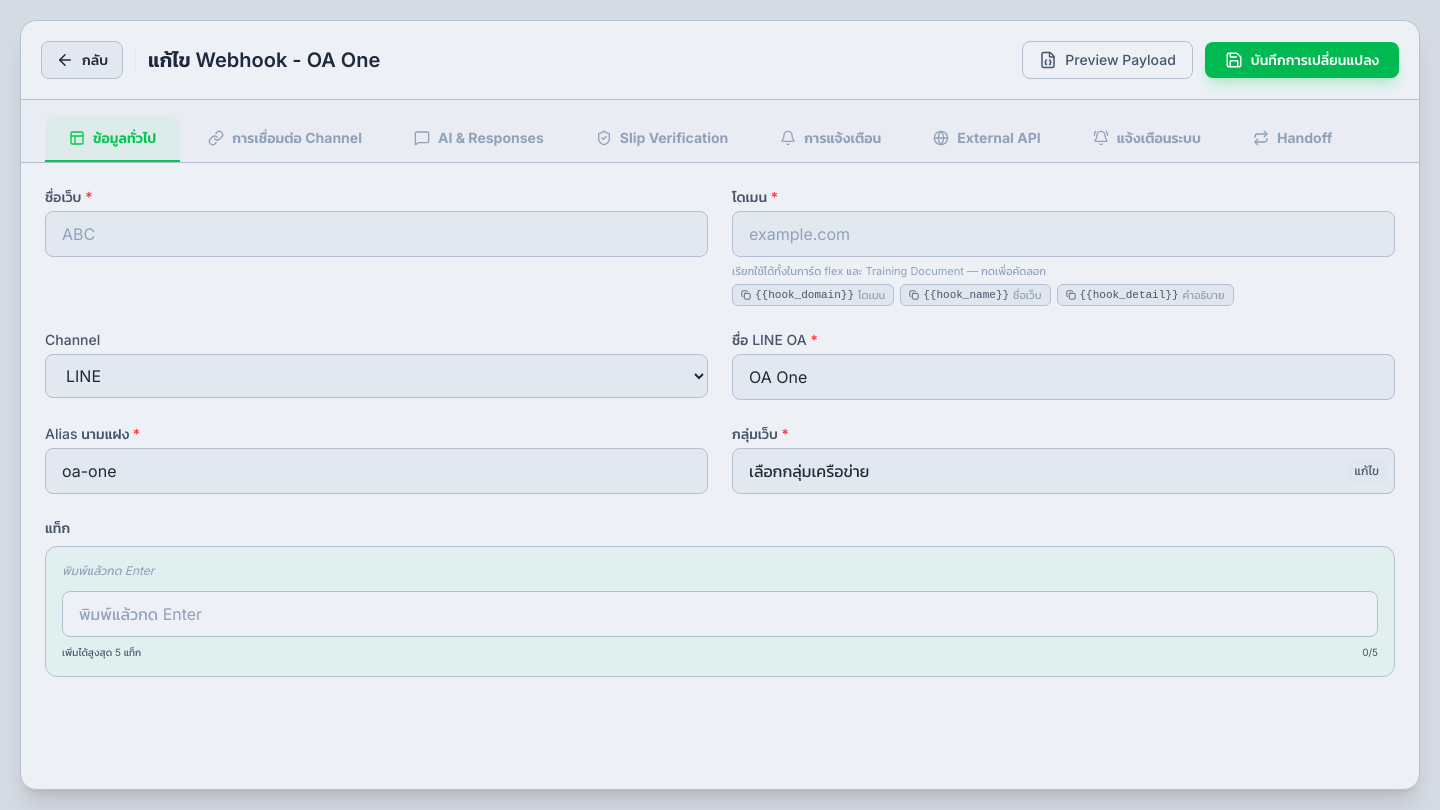
Scenario: [REQ-HOOKFORM] the handoff tab › opening it reads the targets bound to this OA
The width and height of the screenshot is (1440, 810).
Click the button "Handoff" at (1293, 139), box [1229, 116, 1356, 162]
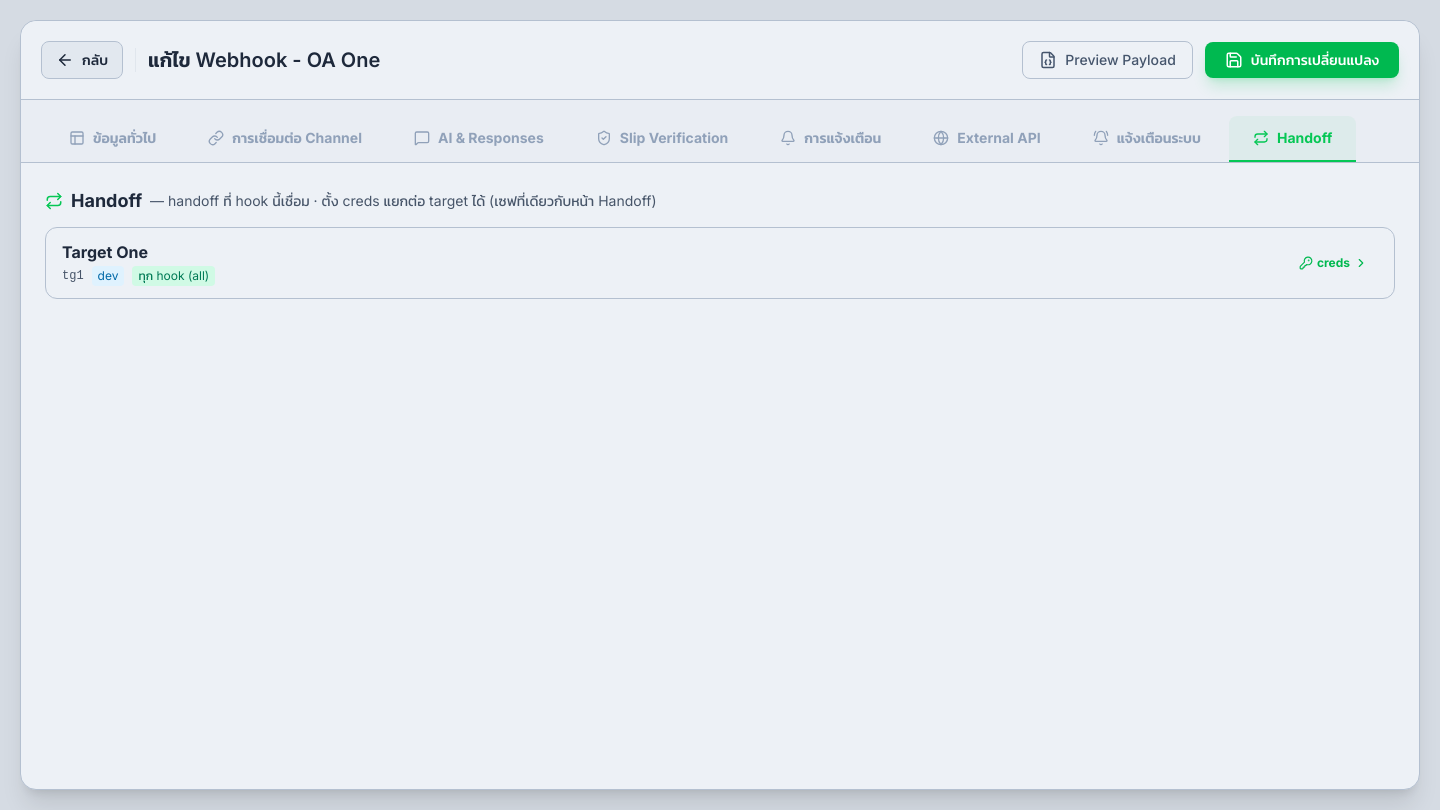
Check: the text "Target One" is shown, box [62, 242, 148, 262]
